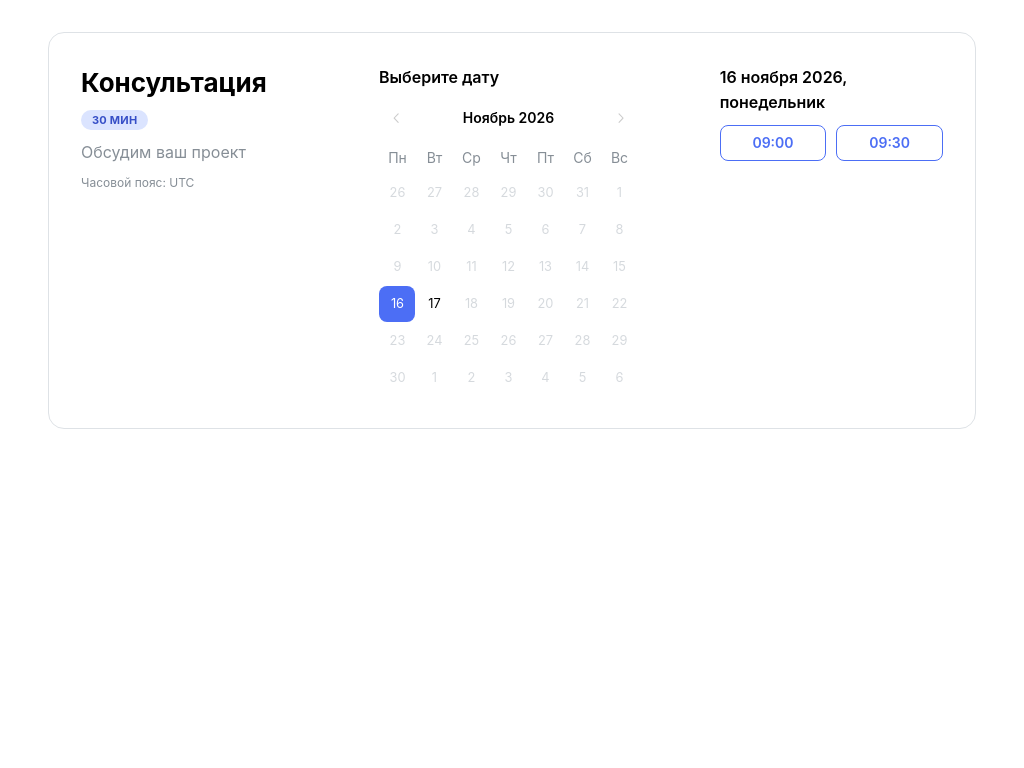
BookingPage › validates guest data
Click the button "09:00".
click(773, 143)  # box [720,125,826,161]
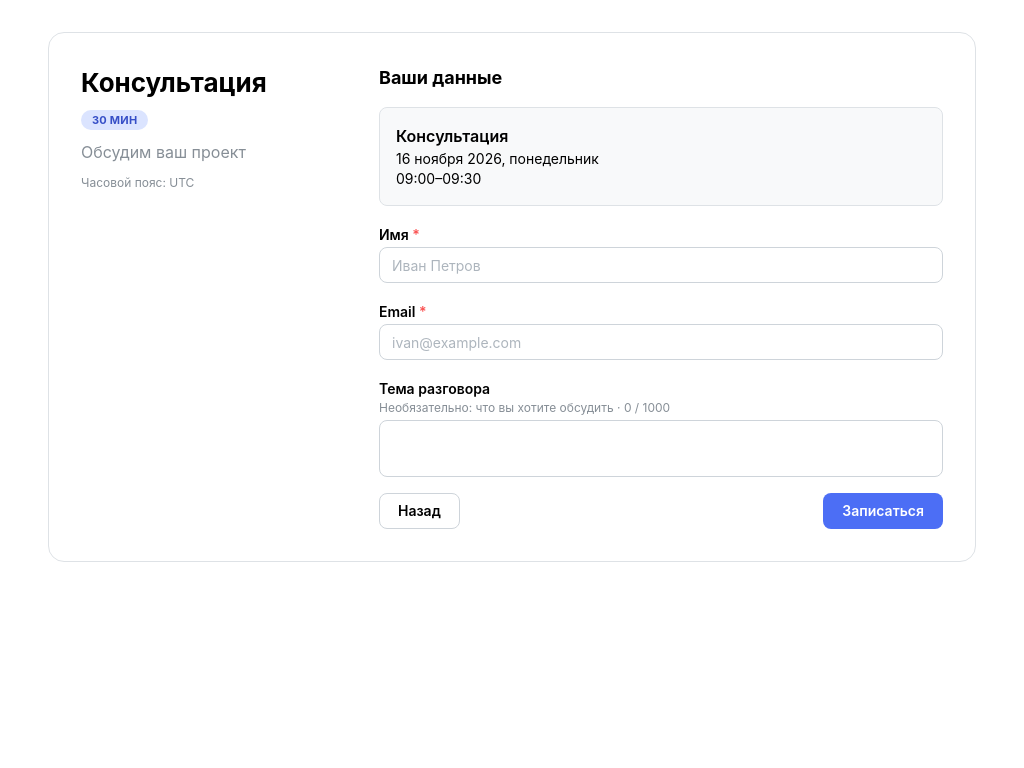
Type "not-an-email" into the field labelled "Email *".
click(661, 342); type("not-an-email")  # box [379,324,943,360]
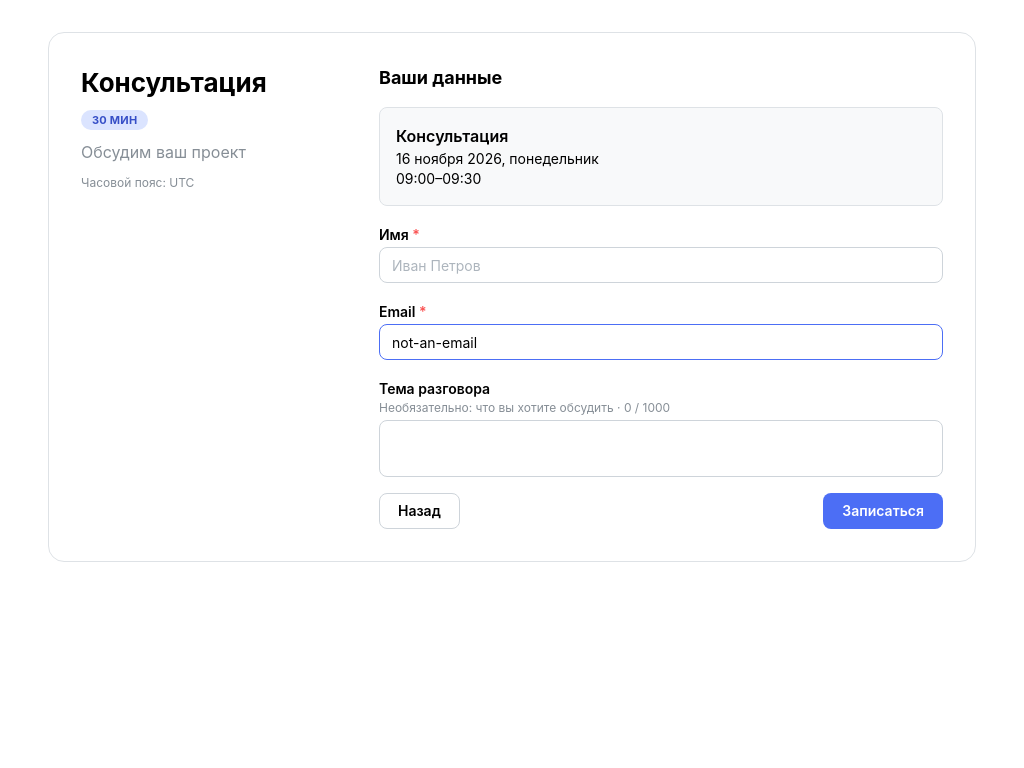
Click the button "Записаться".
click(883, 511)  # box [823,493,943,529]
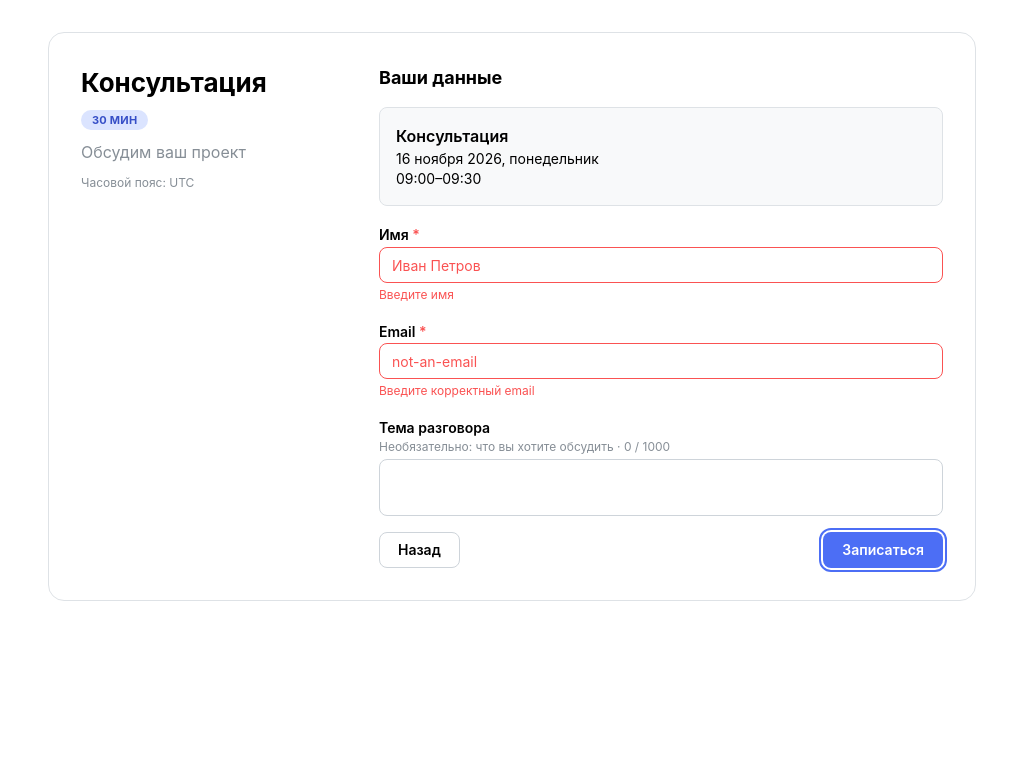
Result: the text "Введите имя" is shown at [379,287,454,302]
Result: the text "Введите корректный email" is shown at [379,384,535,398]
